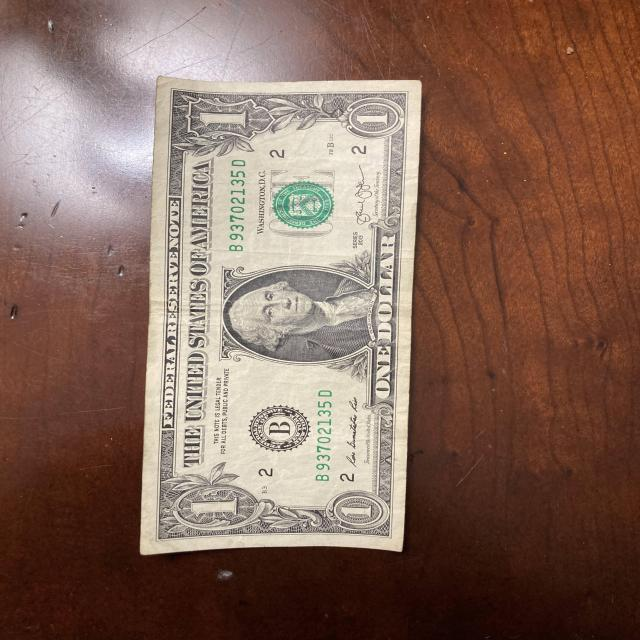one: (137, 79, 426, 555)
